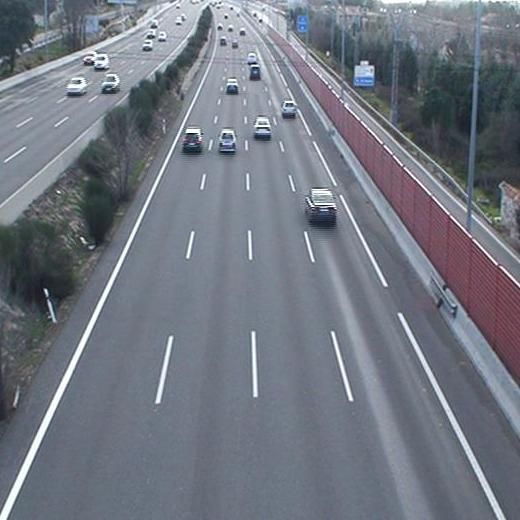car: (302, 187, 339, 224), (181, 127, 202, 154), (217, 129, 238, 152), (252, 116, 271, 140), (280, 99, 298, 120), (225, 78, 240, 95), (249, 65, 261, 80)
